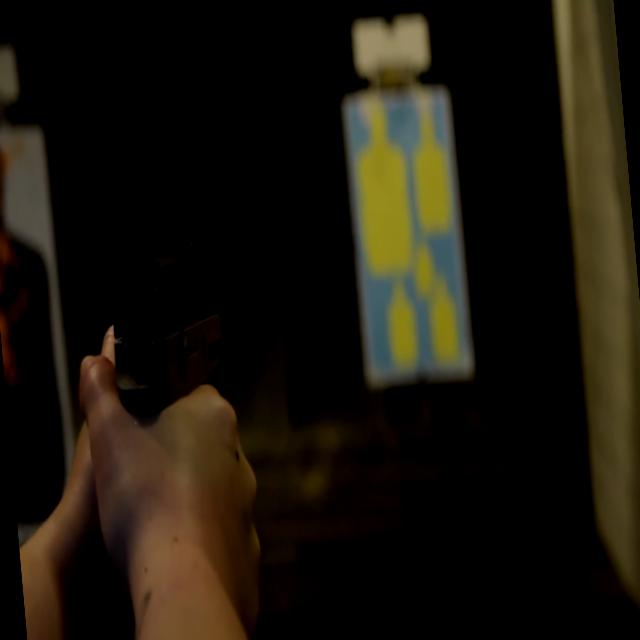handgun: (61, 205, 292, 528)
